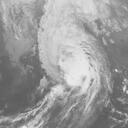cyclone: (48, 36, 103, 93)
